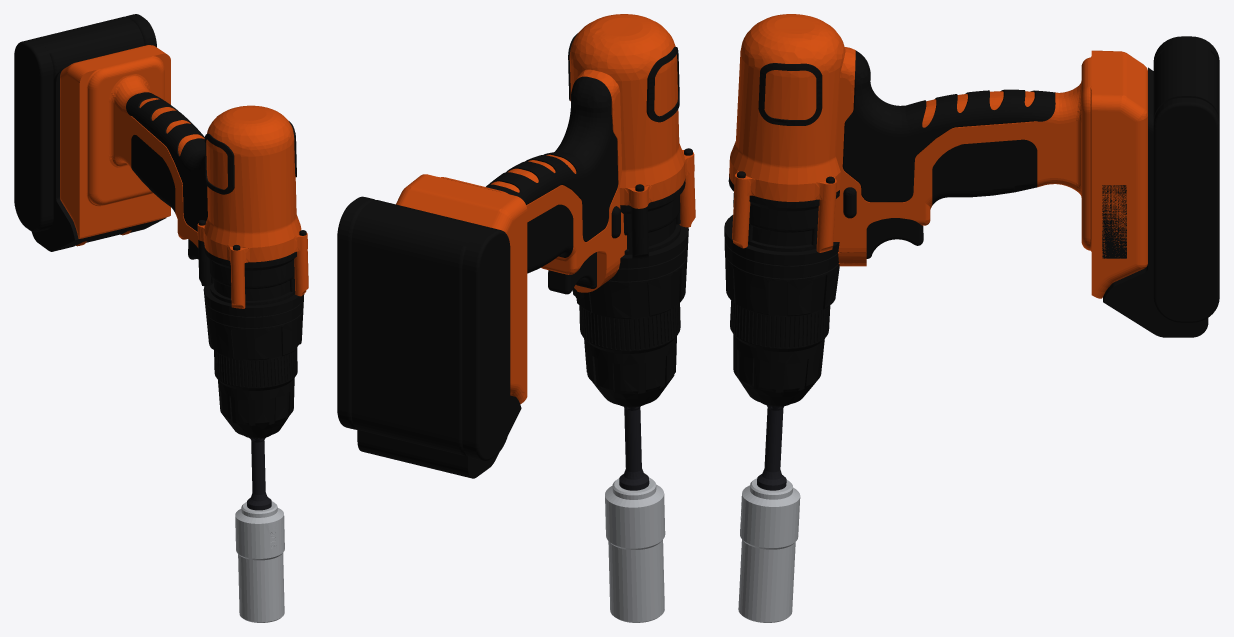
The model's file is drill.glb.
3 views of the same model, side by side, from view 1: azimuth 30°, elevation 25°; view 2: azimuth 150°, elevation 25°; view 3: azimuth 270°, elevation 25° (orthographic). The views are drawn at different scales.
Parts seen in each view (by area): view 1: Drill_Part_31, Drill_Part_06, Drill_Part_34, Drill_Part_24, Deep_Socket_9-16in_1-4in_Drive_6pt, Drill_Part_23, Drill_Part_32, Drill_Part_01, Drill_Part_04, Drill_Part_29, Drill_Part_08, Adapter_1-4in_Hex_to_1-4in_Square (+6 smaller); view 2: Drill_Part_24, Drill_Part_06, Drill_Part_31, Drill_Part_34, Drill_Part_23, Deep_Socket_9-16in_1-4in_Drive_6pt, Drill_Part_32, Drill_Part_29, Drill_Part_04, Adapter_1-4in_Hex_to_1-4in_Square, Drill_Part_01, Drill_Part_08 (+6 smaller); view 3: Drill_Part_31, Drill_Part_24, Drill_Part_06, Drill_Part_34, Drill_Part_23, Deep_Socket_9-16in_1-4in_Drive_6pt, Drill_Part_04, Drill_Part_01, Drill_Part_29, Drill_Part_03, Drill_Part_08, Drill_Part_26 (+7 smaller).
Part boxes in pixels (x1=…): Drill_Part_31: x1=60, y1=45, x2=198, y2=247; Drill_Part_06: x1=203, y1=283, x2=304, y2=438; Drill_Part_34: x1=204, y1=105, x2=300, y2=247; Drill_Part_24: x1=14, y1=14, x2=165, y2=251; Deep_Socket_9-16in_1-4in_Drive_6pt: x1=235, y1=501, x2=284, y2=622; Drill_Part_23: x1=126, y1=92, x2=207, y2=231; Drill_Part_32: x1=15, y1=47, x2=38, y2=225; Drill_Part_01: x1=209, y1=258, x2=295, y2=305; Drill_Part_04: x1=131, y1=135, x2=175, y2=213; Drill_Part_29: x1=33, y1=16, x2=140, y2=53; Drill_Part_08: x1=197, y1=223, x2=307, y2=264; Adapter_1-4in_Hex_to_1-4in_Square: x1=247, y1=437, x2=271, y2=510; Drill_Part_24: x1=337, y1=196, x2=521, y2=478; Drill_Part_06: x1=572, y1=224, x2=688, y2=407; Drill_Part_31: x1=396, y1=70, x2=626, y2=403; Drill_Part_34: x1=569, y1=14, x2=684, y2=187; Drill_Part_23: x1=486, y1=76, x2=618, y2=241; Deep_Socket_9-16in_1-4in_Drive_6pt: x1=605, y1=477, x2=665, y2=622; Drill_Part_32: x1=481, y1=237, x2=508, y2=455; Drill_Part_29: x1=356, y1=200, x2=487, y2=246; Drill_Part_04: x1=527, y1=204, x2=573, y2=273; Adapter_1-4in_Hex_to_1-4in_Square: x1=619, y1=406, x2=649, y2=490; Drill_Part_01: x1=623, y1=195, x2=680, y2=254; Drill_Part_08: x1=619, y1=150, x2=694, y2=208; Drill_Part_31: x1=833, y1=49, x2=1147, y2=298; Drill_Part_24: x1=1103, y1=36, x2=1219, y2=337; Drill_Part_06: x1=724, y1=215, x2=839, y2=406; Drill_Part_34: x1=730, y1=14, x2=845, y2=184; Drill_Part_23: x1=842, y1=50, x2=1055, y2=202; Deep_Socket_9-16in_1-4in_Drive_6pt: x1=738, y1=478, x2=800, y2=622; Drill_Part_04: x1=932, y1=139, x2=1037, y2=205; Drill_Part_01: x1=732, y1=192, x2=818, y2=251; Drill_Part_29: x1=1164, y1=43, x2=1210, y2=103; Drill_Part_03: x1=764, y1=70, x2=816, y2=119; Drill_Part_08: x1=729, y1=159, x2=840, y2=201; Drill_Part_26: x1=1102, y1=185, x2=1126, y2=258.
Size of the model in its own units: 0.0569 by 0.2289 by 0.1747.
